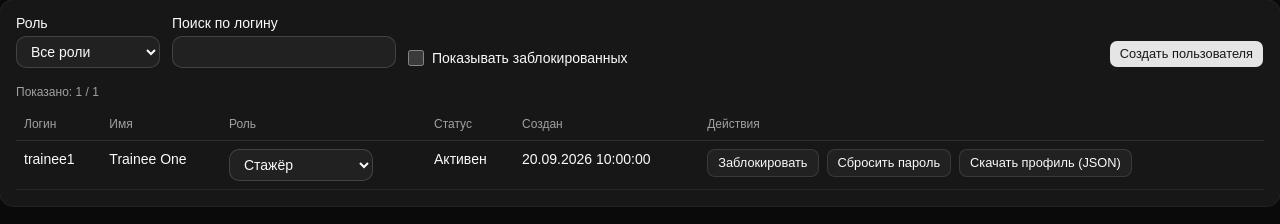
Test case: UsersTab › lists accounts from the server and blocks one
Expected: the text "trainee1" is shown, [16,140,101,190]
Expected: the text "Активен" is shown, [426,140,514,190]
Click the button "Заблокировать" at [763, 163], box [707,149,818,177]
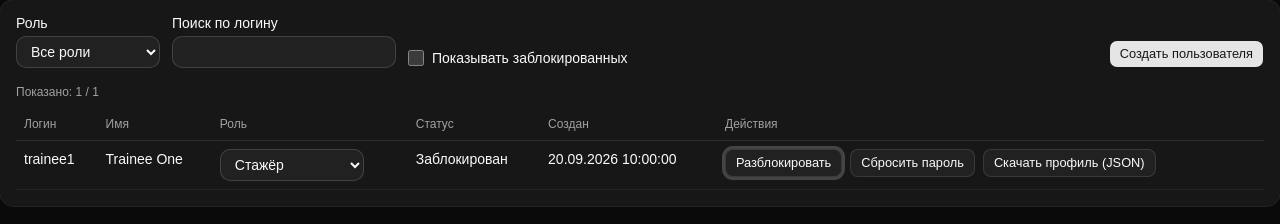
Expected: the text "Заблокирован" is shown, [408,140,540,190]
